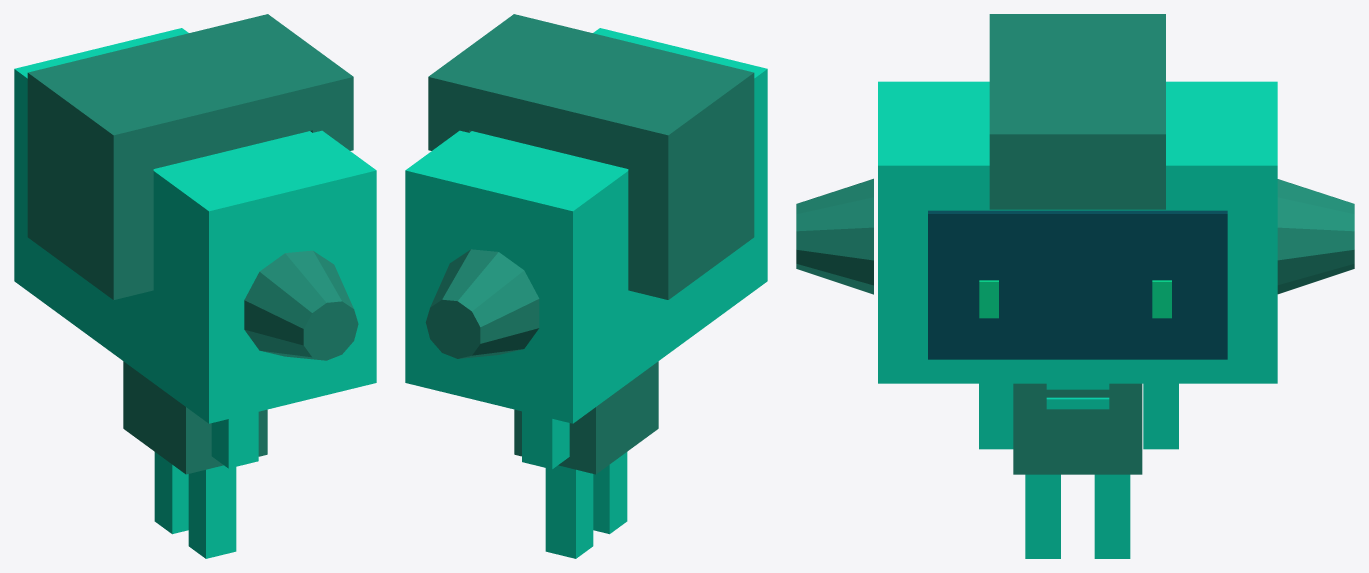
Rendered from playerV1.fbx.
3 views of the same model, side by side, from view 1: azimuth 30°, elevation 25°; view 2: azimuth 150°, elevation 25°; view 3: azimuth 270°, elevation 25° (orthographic). The views are drawn at different scales.
Parts seen in each view (by area): view 1: pCube2, pCube7, pCylinder1, pCube1, pCube3, pCube4, pCube6; view 2: pCube2, pCube7, pCylinder2, pCube1, pCube4, pCube3, pCube5; view 3: pCube2, pCube8, pCube7, pCube1, pCylinder1, pCylinder2, pCube4, pCube3, pCube5, pCube6, pCube12, pCube9 (+1 smaller).
Boxes of the visible parts, box(x1,y1,x2,y2) form: pCube2: box(14, 28, 376, 423); pCube7: box(27, 14, 353, 299); pCylinder1: box(244, 250, 358, 360); pCube1: box(123, 361, 267, 474); pCube3: box(188, 465, 236, 558); pCube4: box(154, 452, 188, 534); pCube6: box(211, 412, 258, 468); pCube2: box(405, 28, 767, 423); pCube7: box(428, 14, 754, 299); pCylinder2: box(425, 249, 539, 358); pCube1: box(514, 361, 658, 474); pCube4: box(545, 465, 593, 558); pCube3: box(593, 452, 627, 534); pCube5: box(522, 411, 569, 469); pCube2: box(878, 81, 1277, 383); pCube8: box(928, 210, 1227, 359); pCube7: box(989, 14, 1165, 209); pCube1: box(1013, 383, 1142, 474); pCylinder1: box(796, 178, 873, 294); pCylinder2: box(1277, 179, 1354, 294); pCube4: box(1094, 474, 1130, 558); pCube3: box(1025, 474, 1060, 558); pCube5: box(1143, 383, 1178, 449); pCube6: box(979, 383, 1013, 449); pCube12: box(1046, 397, 1109, 409); pCube9: box(979, 280, 998, 318).
Bounding box in the file's own units: 0.0239 × 0.044 × 0.0468.
